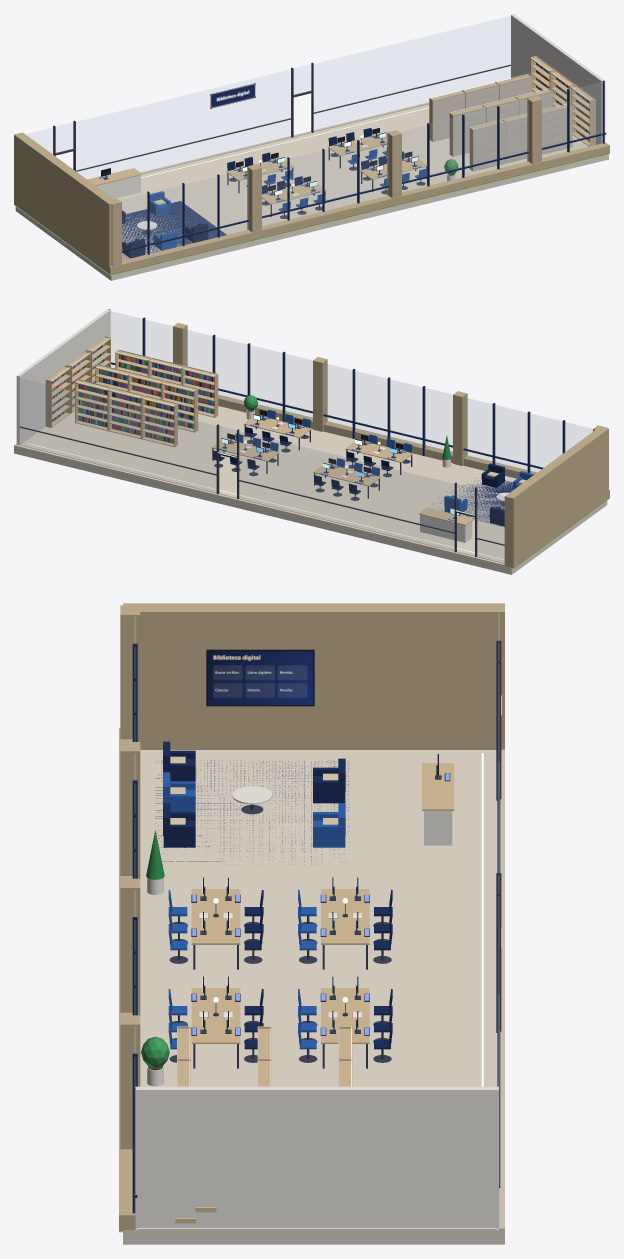
File: biblioteca.glb
3 renders of one model, top to bottom at view 1: azimuth 30°, elevation 25°; view 2: azimuth 150°, elevation 25°; view 3: azimuth 270°, elevation 25°, orthographic. The views are drawn at different scales.
Parts seen in each view (by area): view 1: vidrio-cfe6ff, vidrio-cfe0ea, mate-e9dfcf, mate-cdb894, mate-ddd7cc, brillo-cdb894, mate-dcc39c, mate-e8e2d6, mate-f7f4ee, metal-14285a, metal-3a4256, brillo-dcc39c (+12 smaller); view 2: vidrio-cfe6ff, mate-e9dfcf, vidrio-cfe0ea, mate-cdb894, mate-dcc39c, mate-e8e2d6, mate-f7f4ee, MeshStandardMaterial-tex (×5), metal-3a4256, metal-14285a, brillo-dcc39c, brillo-cdb894 (+10 smaller); view 3: mate-e9dfcf, mate-cdb894, mate-f7f4ee, brillo-dcc39c, metal-3a4256, mate-e8e2d6, MeshBasicMaterial-tex, mate-14285a, mate-dcc39c, brillo-14285a, metal-14285a, brillo-2a62b8 (+9 smaller).
Boxes of the visible parts, x1,y1,x2,y2 form: vidrio-cfe6ff: (26,16,510,178); vidrio-cfe0ea: (120,81,605,260); mate-e9dfcf: (114,104,588,260); mate-cdb894: (14,96,541,273); mate-ddd7cc: (433,56,594,171); brillo-cdb894: (109,142,609,274); mate-dcc39c: (429,55,595,171); mate-e8e2d6: (15,154,608,280); mate-f7f4ee: (511,14,604,144); metal-14285a: (122,80,606,254); metal-3a4256: (53,62,510,234); brillo-dcc39c: (87,134,426,204); vidrio-cfe6ff: (20,378,504,562); mate-e9dfcf: (20,406,516,563); vidrio-cfe0ea: (111,311,592,477); mate-cdb894: (173,323,608,567); mate-dcc39c: (45,336,218,447); mate-e8e2d6: (14,446,607,574); mate-f7f4ee: (16,309,110,445); MeshStandardMaterial-tex (×5): (78,371,214,443); metal-3a4256: (19,413,504,557); metal-14285a: (109,309,565,472); brillo-dcc39c: (211,416,473,525); brillo-cdb894: (218,394,609,499); mate-e9dfcf: (140,750,496,1086); mate-cdb894: (120,603,504,1149); mate-f7f4ee: (135,1086,498,1228); brillo-dcc39c: (175,763,454,1223); metal-3a4256: (169,640,501,1187); mate-e8e2d6: (123,800,504,1244); MeshBasicMaterial-tex: (208,651,312,704); mate-14285a: (163,741,345,1017); mate-dcc39c: (177,1026,352,1086); brillo-14285a: (244,890,392,1049); metal-14285a: (132,643,137,1213); brillo-2a62b8: (168,890,316,1049).
Bounding box in the file's own units: 28.55 × 4.2 × 9.55.
56 materials, 15 textured.
